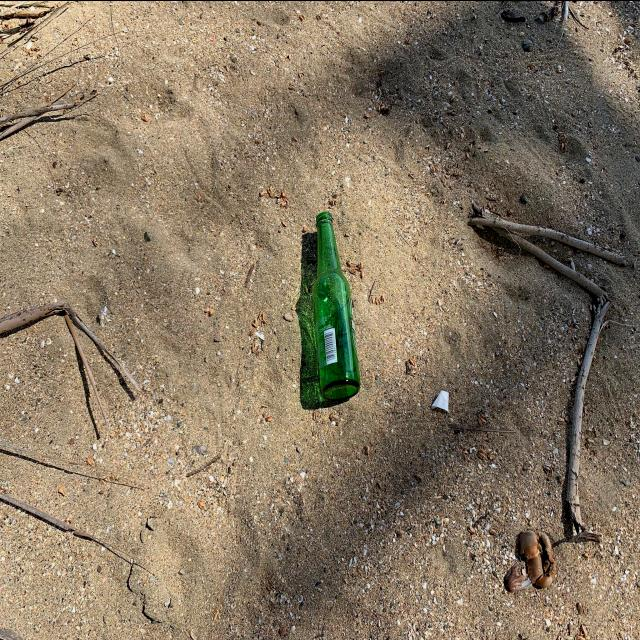Glass bottle: (312, 210, 361, 400)
Unlabeled litter: (432, 390, 449, 411)
